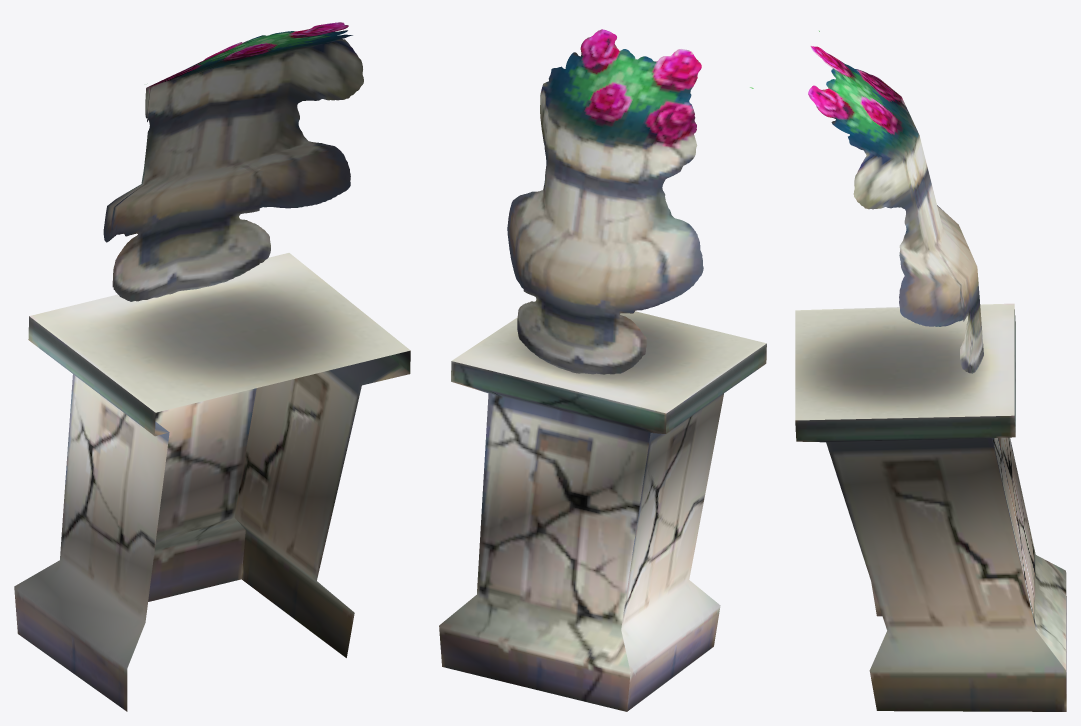
The model's file is Gimmick_break04.fbx.
3 renders of one model, left to right at view 1: azimuth 30°, elevation 25°; view 2: azimuth 150°, elevation 25°; view 3: azimuth 270°, elevation 25°, orthographic. The views are drawn at different scales.
Parts seen in each view (by area): view 1: gimmick_break04; view 2: gimmick_break04; view 3: gimmick_break04.
Boxes of the visible parts, x1,y1,x2,y2 form: gimmick_break04: (14, 22, 410, 711); gimmick_break04: (439, 29, 766, 711); gimmick_break04: (795, 31, 1066, 711).
Bounding box in the file's own units: 0.7917 × 1.98 × 0.8093.
